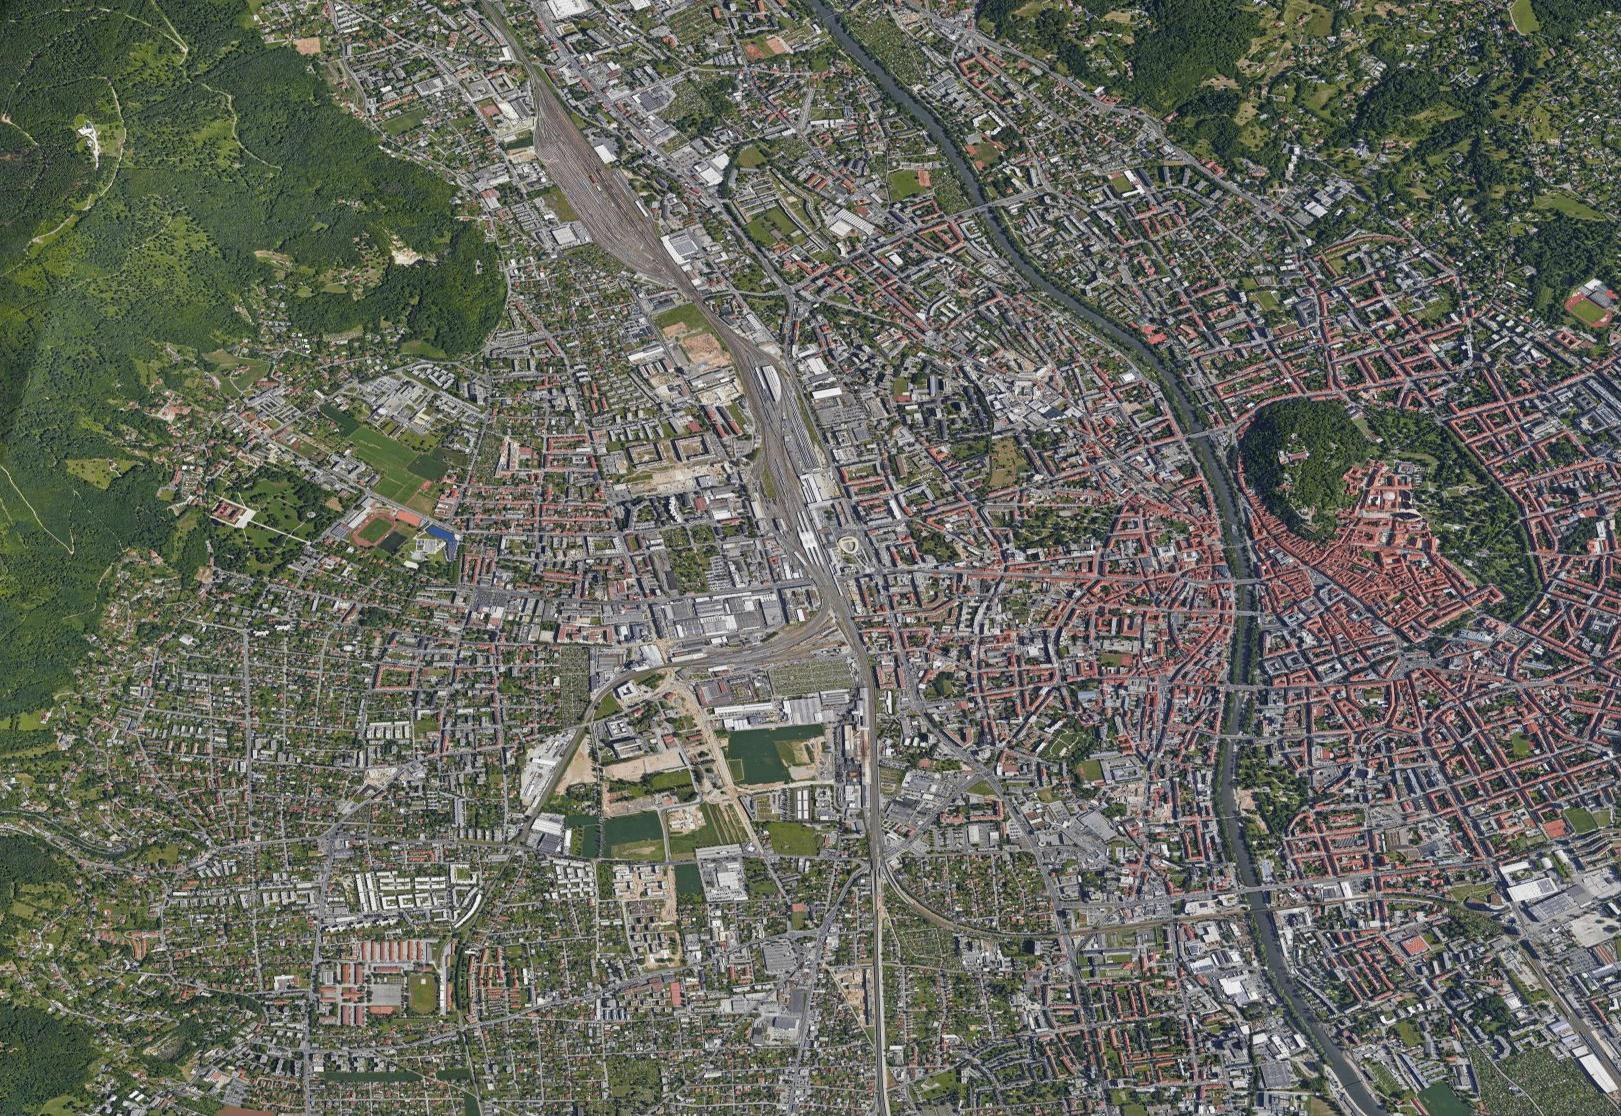train_station: (776, 487, 838, 586)
